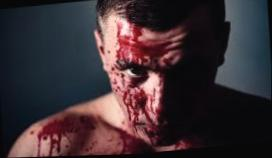Fire: (110, 23, 165, 145), (38, 116, 154, 157), (176, 141, 194, 151)
